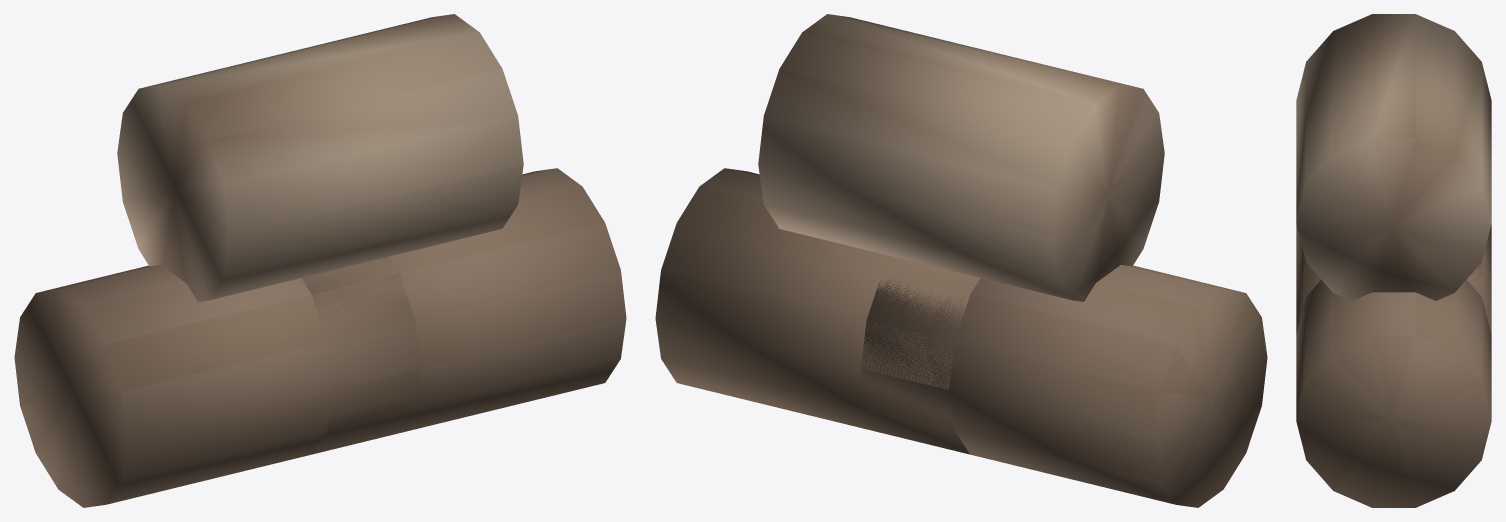
Rendered from Shroom_Logs.glb.
3 renders of one model, left to right at view 1: azimuth 30°, elevation 25°; view 2: azimuth 150°, elevation 25°; view 3: azimuth 270°, elevation 25°, orthographic. The views are drawn at different scales.
Visible parts, largest first — view 1: Logs; view 2: Logs; view 3: Logs.
Boxes of the visible parts, left/top/right/bottom form: Logs: left=14, top=14, right=626, bottom=507; Logs: left=655, top=14, right=1267, bottom=507; Logs: left=1296, top=14, right=1491, bottom=507.
Bounding box in the file's own units: 1.02 × 0.74 × 0.4.
